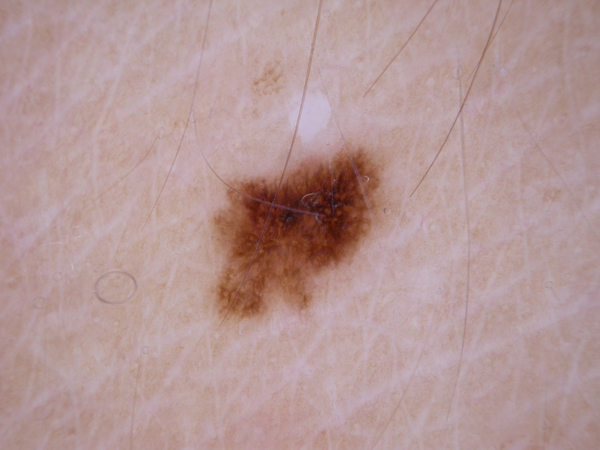Detected Lesion: (208, 140, 401, 322)
